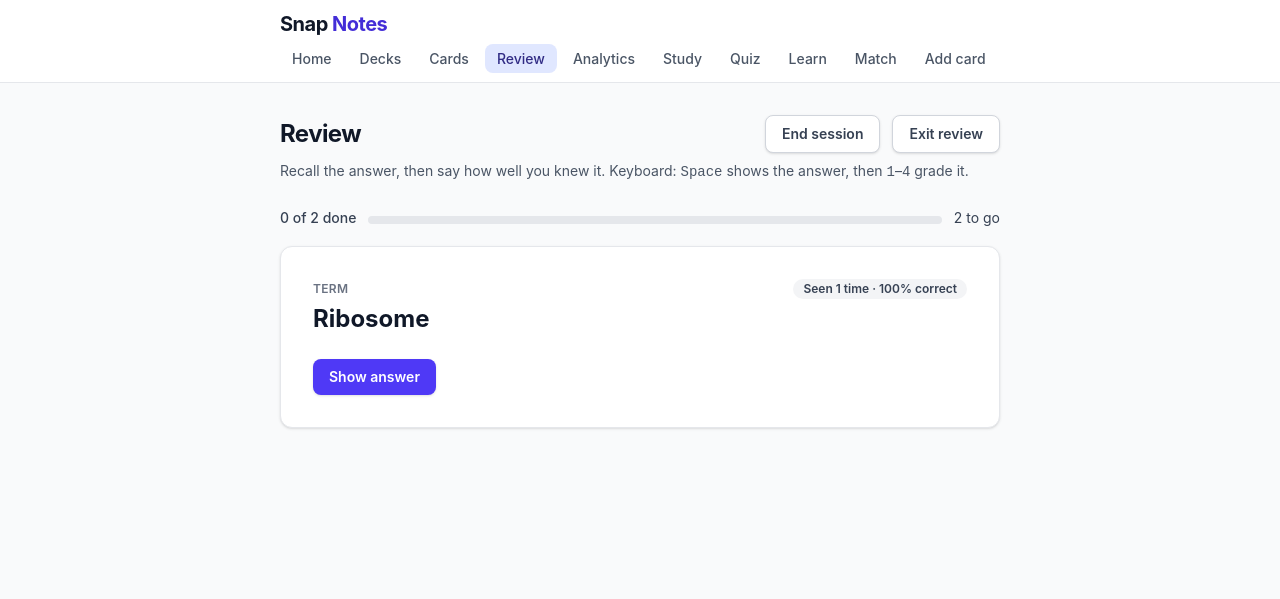
Test: a review session › brings a card graded "Again" back before the session ends
Click the button "Show answer" at {"x": 374, "y": 377}, box [313,359,436,395]
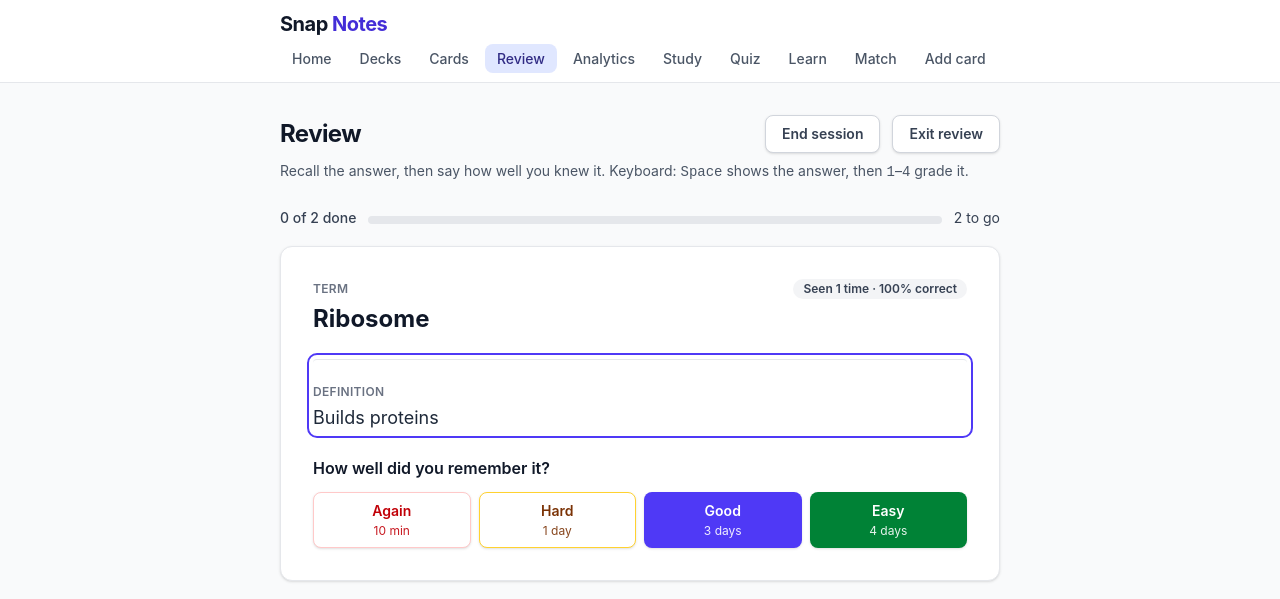
Click the button "Again 10 min" at {"x": 392, "y": 520}, box [313,492,470,548]
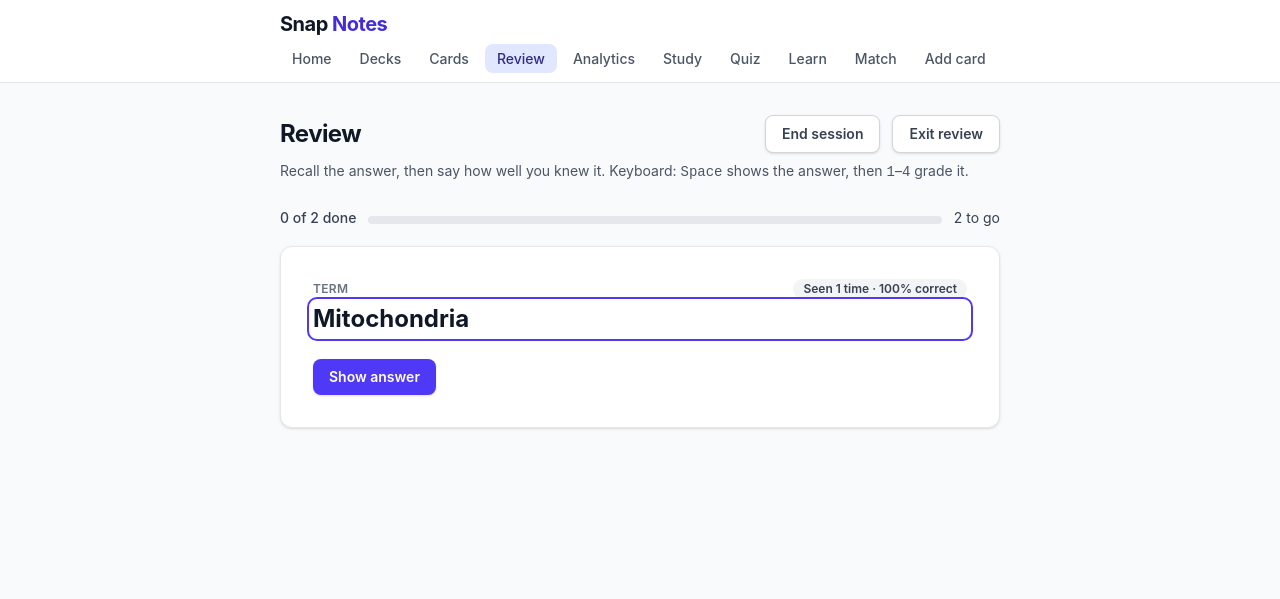
Expected: the heading "Mitochondria" is shown, [313,304,469,333]
Click the button "Show answer" at {"x": 374, "y": 377}, box [313,359,436,395]
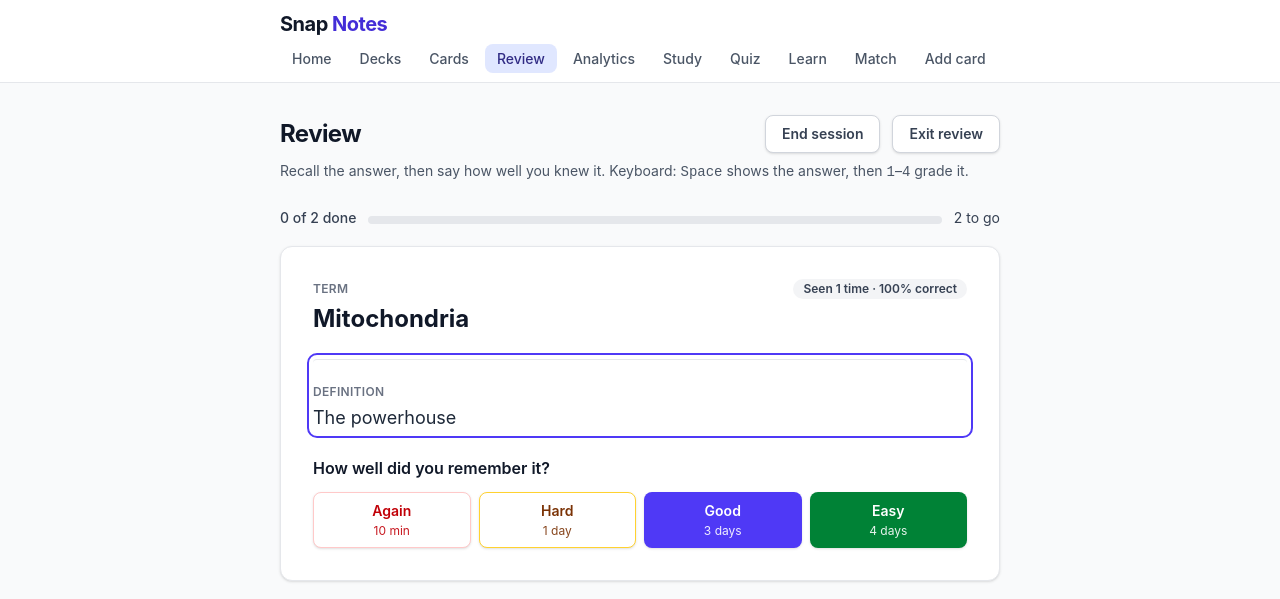
Click the button "Good 3 days" at {"x": 723, "y": 520}, box [644,492,802,548]
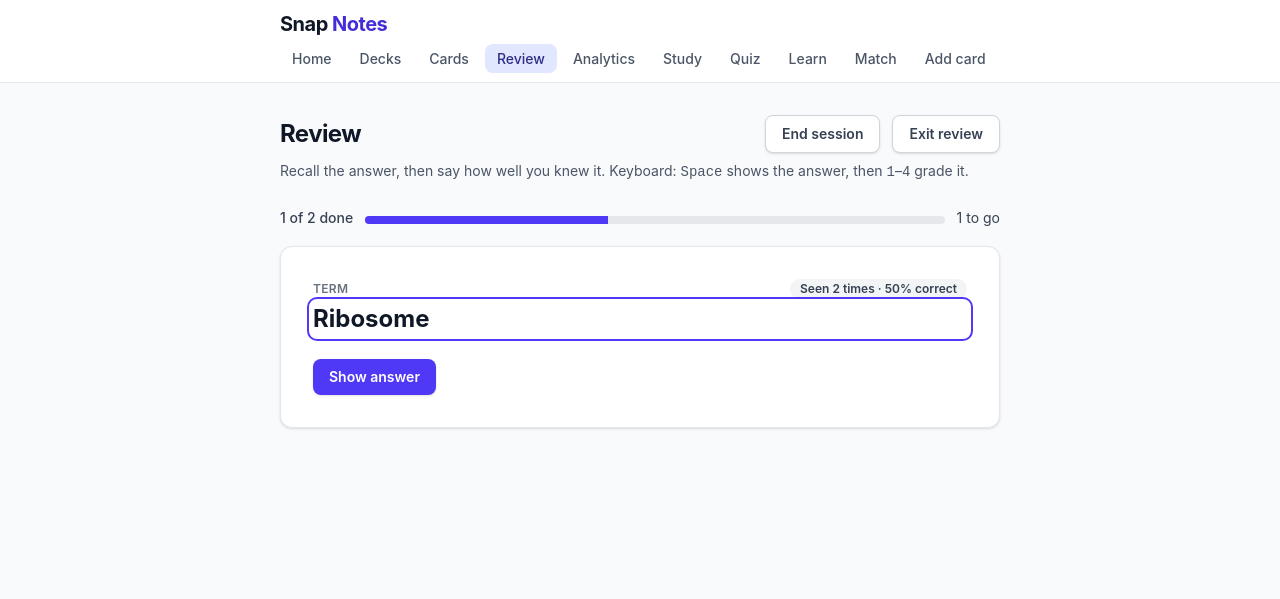
Expected: the heading "Ribosome" is shown, [313,304,430,333]
